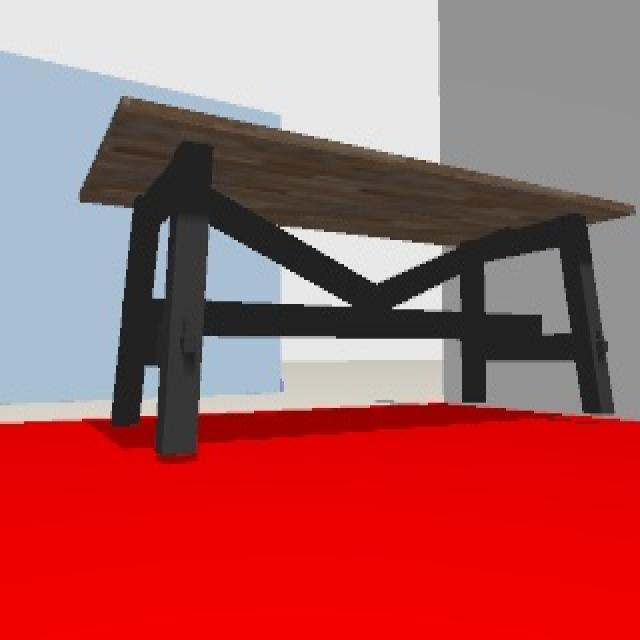dining: (83, 94, 636, 463)
